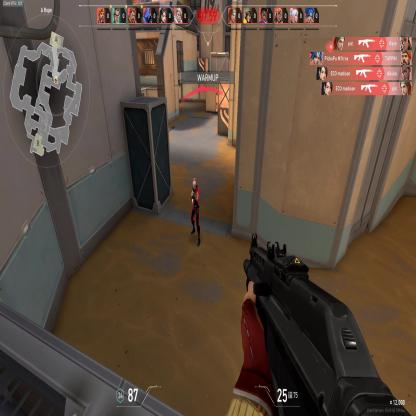enemy: (189, 175, 201, 249)
